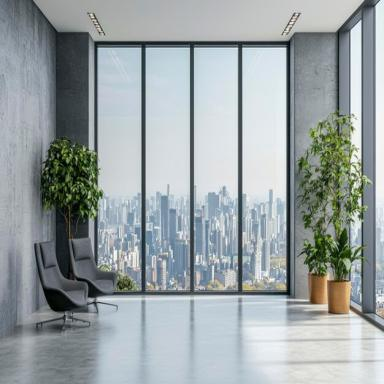glass_panel: (97, 47, 142, 291), (244, 47, 288, 289), (146, 48, 190, 289), (196, 48, 239, 289), (348, 15, 362, 305), (375, 5, 383, 315)
